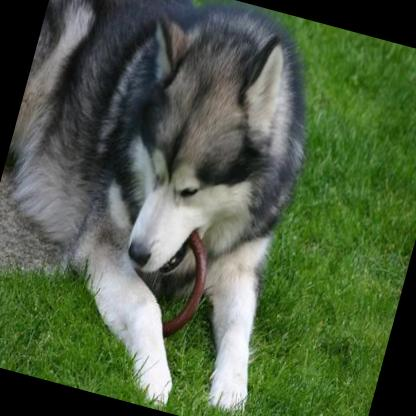malamute: (0, 0, 344, 416)
